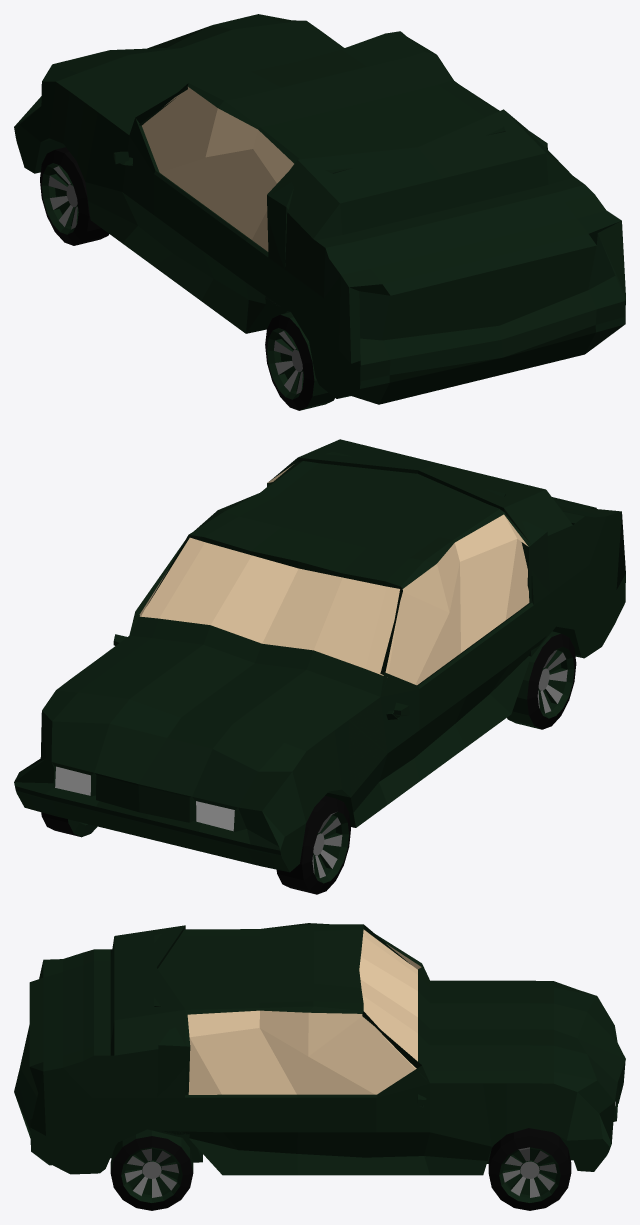
Rendered from BroomBroom3.fbx.
The picture shows the model from 3 angles, top to bottom: view 1: azimuth 30°, elevation 25°; view 2: azimuth 150°, elevation 25°; view 3: azimuth 270°, elevation 25°; orthographic projection. The views are drawn at different scales.
Visible parts, largest first — view 1: Cube; view 2: Cube; view 3: Cube.
Boxes of the visible parts, x1,y1,x2,y2 form: Cube: (14, 14, 625, 410); Cube: (14, 439, 625, 894); Cube: (14, 923, 625, 1210).
Size of what is drawn, in the model's own units: 181 by 135 by 390.
